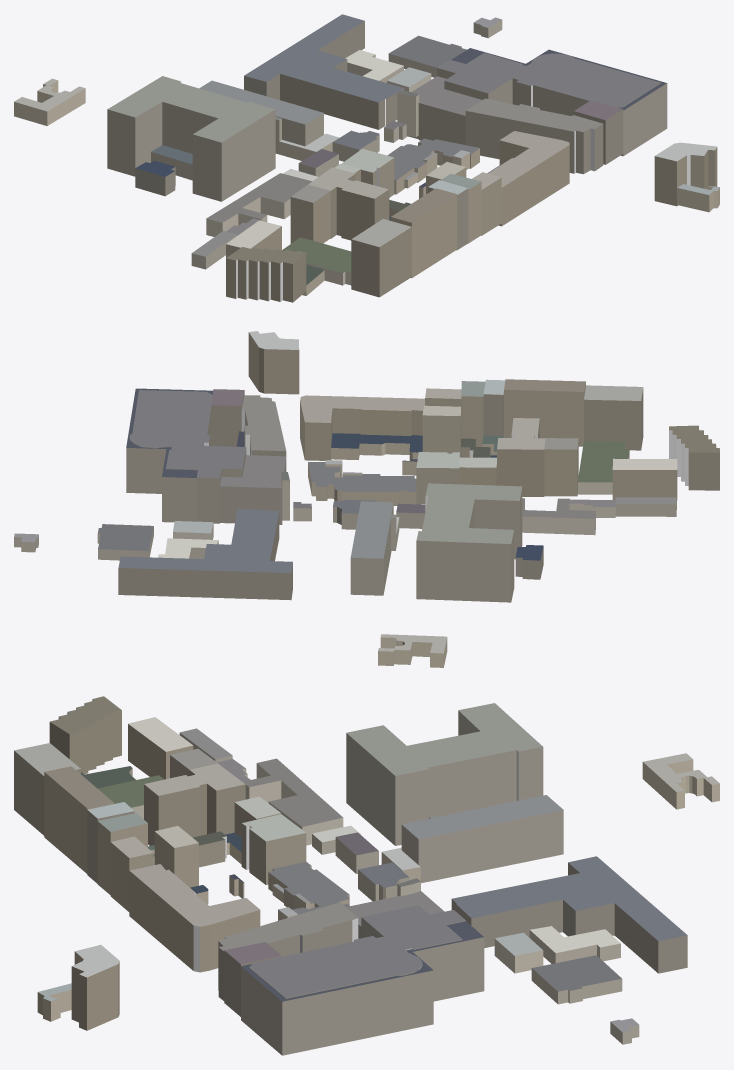
3 views of the same model, one above another, from view 1: azimuth 30°, elevation 25°; view 2: azimuth 150°, elevation 25°; view 3: azimuth 270°, elevation 25° (orthographic). The views are drawn at different scales.
Visible parts, largest first — view 1: tuile; view 2: tuile; view 3: tuile.
Boxes of the visible parts, <box> form: tuile: <box>14,14,719,302</box>; tuile: <box>14,331,719,667</box>; tuile: <box>14,696,719,1055</box>.
Size of the model in its own units: 272 by 34.94 by 272.
